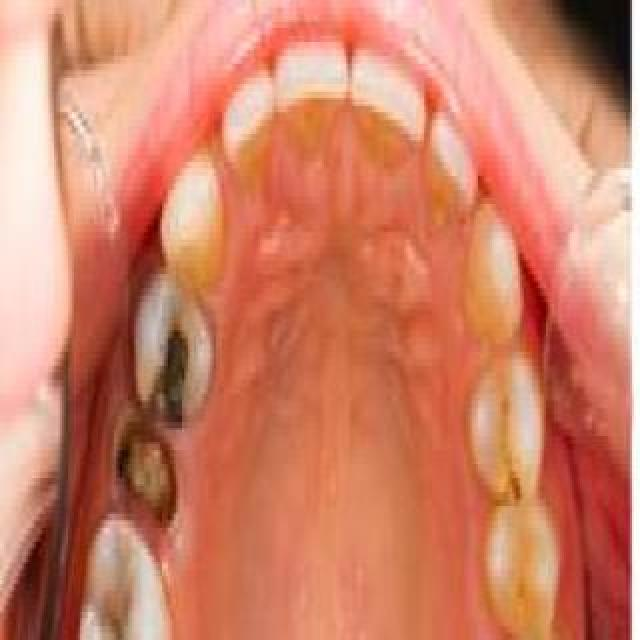cavities: (70, 506, 170, 640), (461, 337, 543, 499), (474, 484, 556, 640), (480, 618, 574, 640)
spacing: (196, 107, 242, 207), (464, 166, 494, 244), (415, 107, 437, 189)
